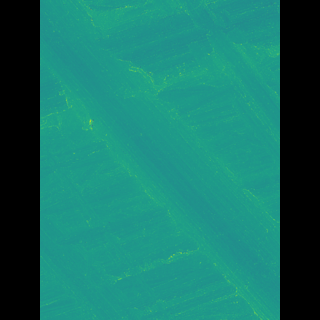Loch: (68, 0, 250, 319), (152, 0, 249, 167), (70, 204, 151, 319)
